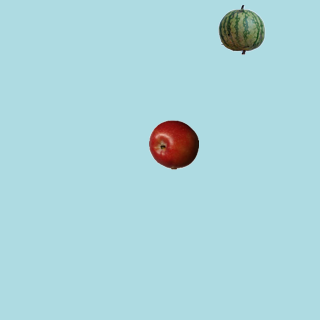Apple Braeburn: (148, 119, 198, 169)
Watermelon: (216, 4, 266, 54)
